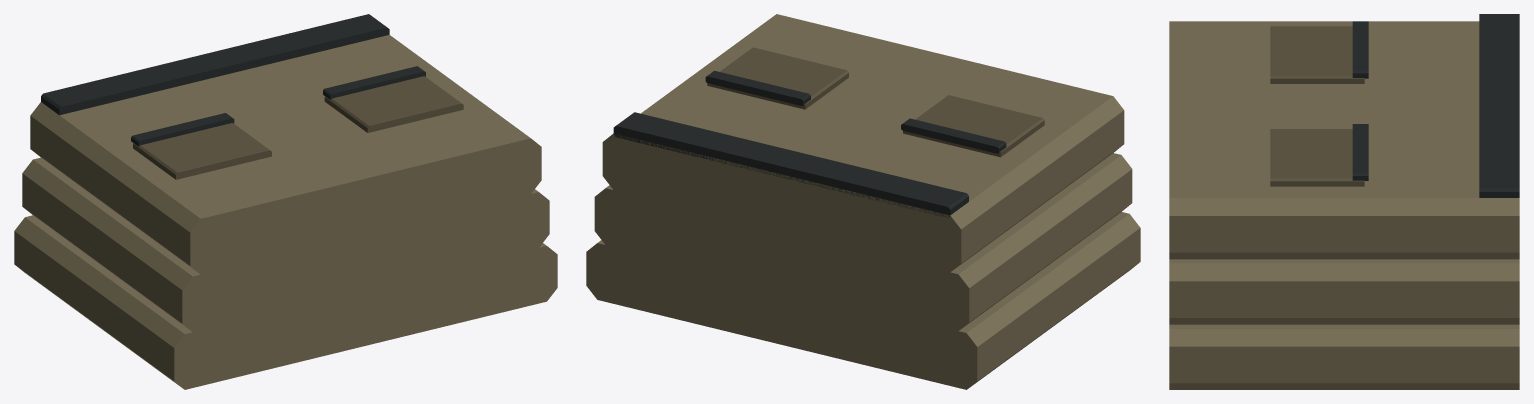
Rendered from CargoTrousers.gltf.
3 views of the same model, side by side, from view 1: azimuth 30°, elevation 25°; view 2: azimuth 150°, elevation 25°; view 3: azimuth 270°, elevation 25° (orthographic). The views are drawn at different scales.
Visible parts, largest first — view 1: CargoTrousers; view 2: CargoTrousers; view 3: CargoTrousers.
Boxes of the visible parts, x1=… form: CargoTrousers: x1=14, y1=14, x2=557, y2=389; CargoTrousers: x1=586, y1=14, x2=1140, y2=389; CargoTrousers: x1=1169, y1=14, x2=1519, y2=389.
Bounding box in the file's own units: 0.36 × 0.16 × 0.26.
